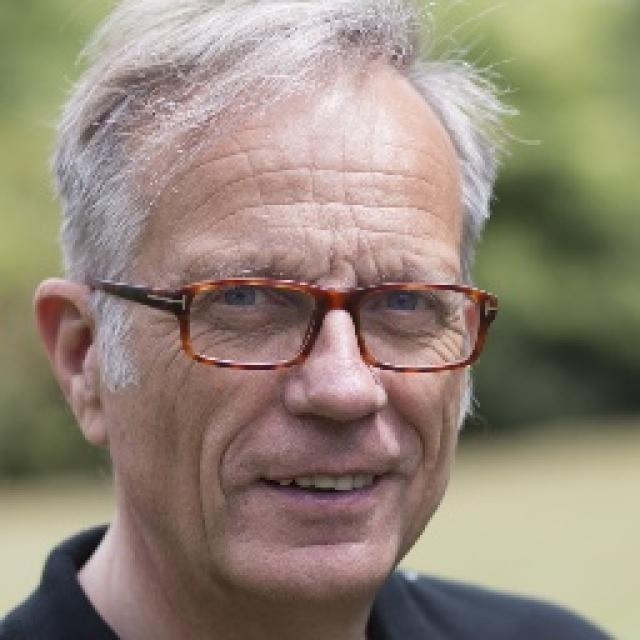earlobe: (70, 404, 114, 450)
eye: (206, 281, 285, 317), (366, 290, 442, 320)
nose: (288, 406, 388, 456)
wholeear: (30, 279, 113, 449), (460, 288, 490, 392)
